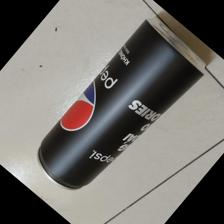Pepsi: (34, 19, 208, 192)
